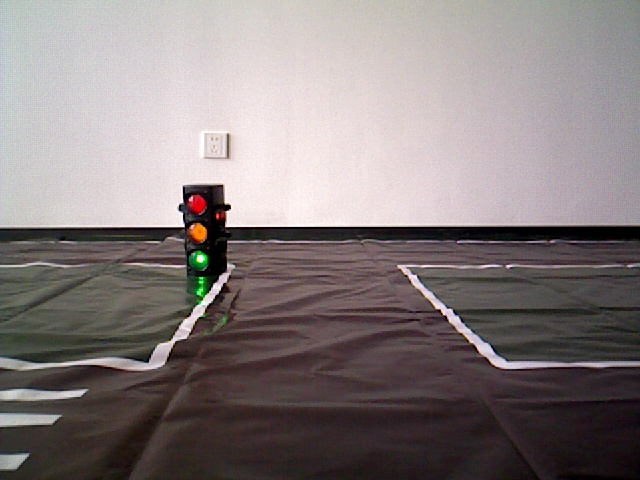green: (185, 188, 220, 269)
